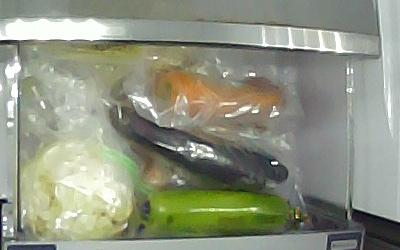cabbage_vinyl: (22, 144, 135, 239)
carrot_vinyl: (152, 68, 285, 117)
eggplant_vinyl: (106, 103, 289, 193)
zucchini_vinyl: (133, 187, 289, 234)
